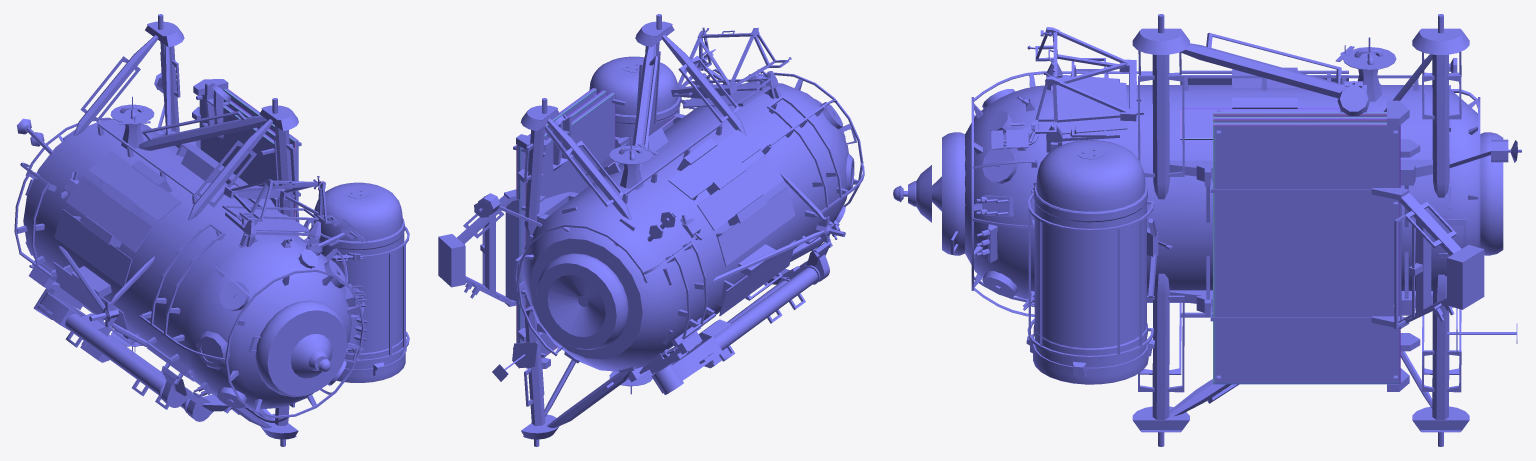
Rendered from Module_Rassvet.fbx.
The picture shows the model from 3 angles, left to right: view 1: azimuth 30°, elevation 25°; view 2: azimuth 150°, elevation 25°; view 3: azimuth 270°, elevation 25°; orthographic projection. The views are drawn at different scales.
Visible parts, largest first — view 1: Module_Rassvet; view 2: Module_Rassvet; view 3: Module_Rassvet.
Part boxes in pixels (left/top/right/bottom): Module_Rassvet: left=14, top=14, right=409, bottom=446; Module_Rassvet: left=438, top=14, right=864, bottom=446; Module_Rassvet: left=893, top=14, right=1521, bottom=446.
Size of the model in its own units: 239 by 281 by 376.
